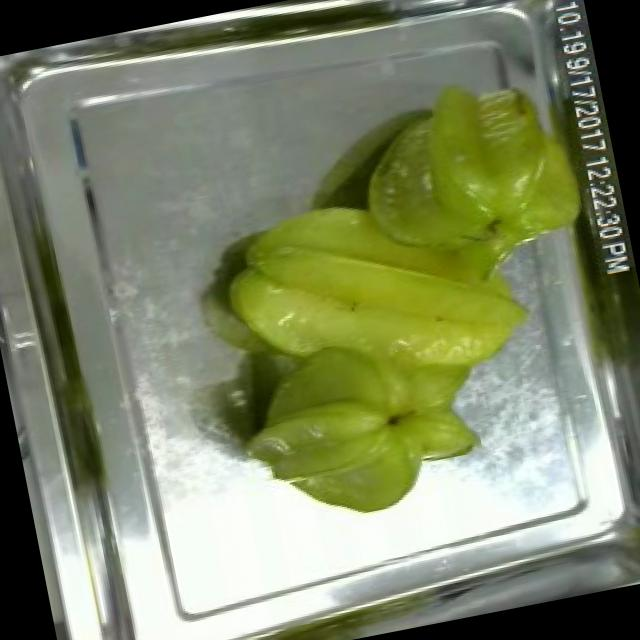fruit: (187, 154, 570, 518), (333, 52, 605, 286)
